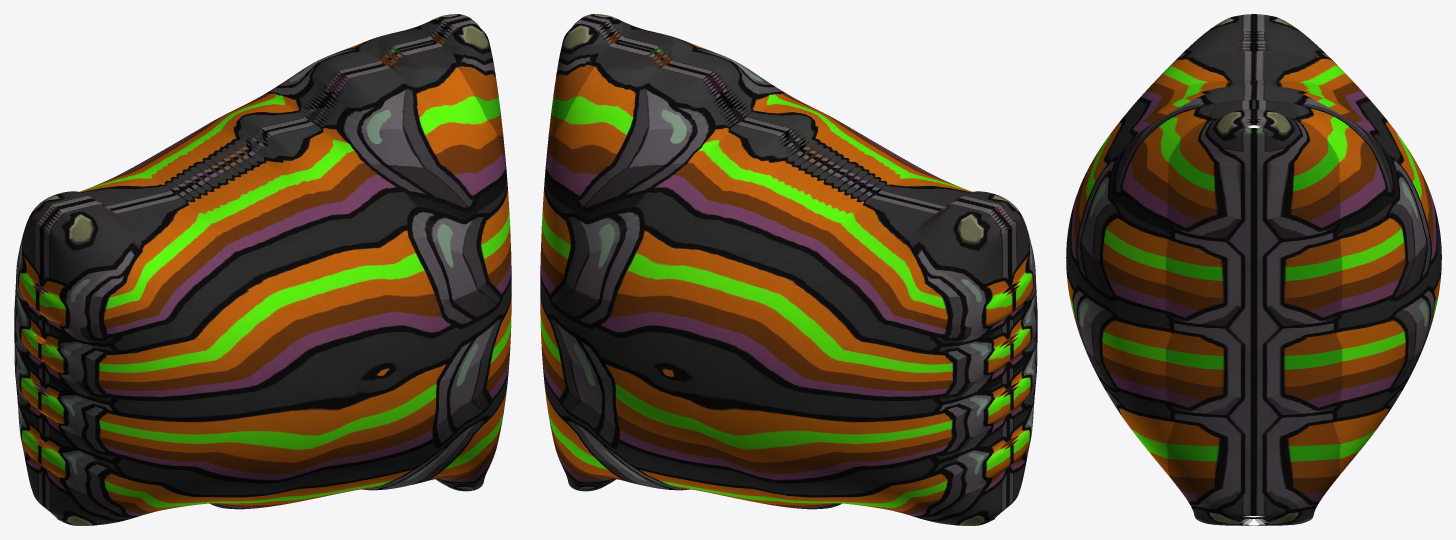
File: pipe_bank.glb
3 views of the same model, side by side, from view 1: azimuth 30°, elevation 25°; view 2: azimuth 150°, elevation 25°; view 3: azimuth 270°, elevation 25° (orthographic). The views are drawn at different scales.
Parts seen in each view (by area): view 1: pipe_bank; view 2: pipe_bank; view 3: pipe_bank.
Boxes of the visible parts, x1,y1,x2,y2 form: pipe_bank: [14, 14, 511, 525]; pipe_bank: [540, 14, 1037, 525]; pipe_bank: [1066, 14, 1441, 525].
Size of the model in its own units: 0.989 by 0.9443 by 0.7823.
1 material, 1 textured.
